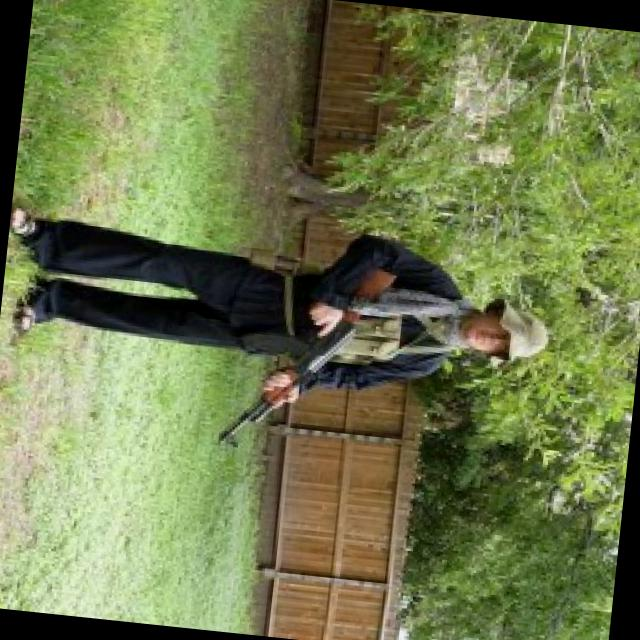long weapon: (205, 240, 396, 474)
